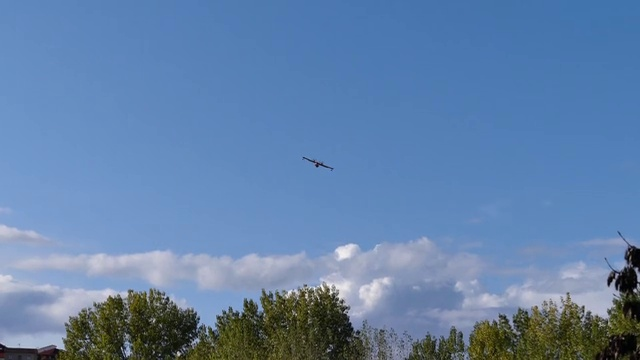plane: (301, 156, 334, 171)
